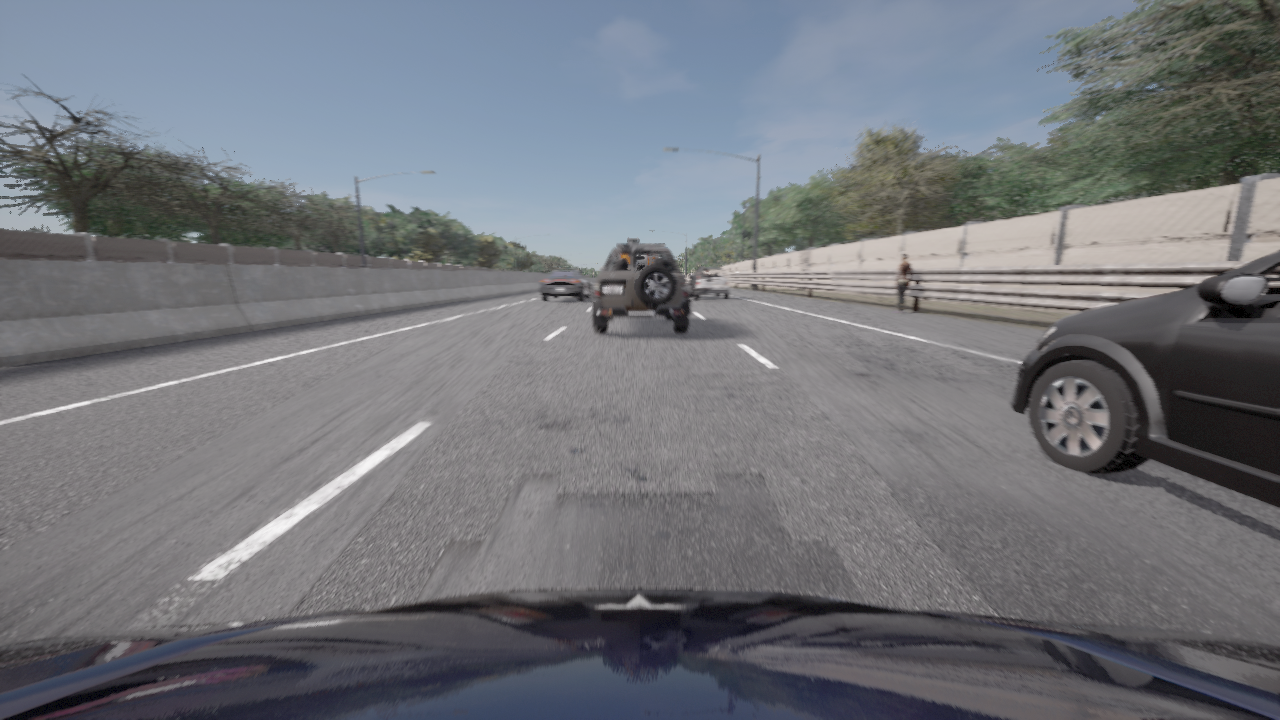cyclist: (0, 588, 1279, 719), (1011, 250, 1279, 507), (591, 243, 690, 332), (539, 267, 590, 300), (688, 266, 729, 299), (627, 238, 638, 242)
pedestrian: (893, 253, 912, 313)
